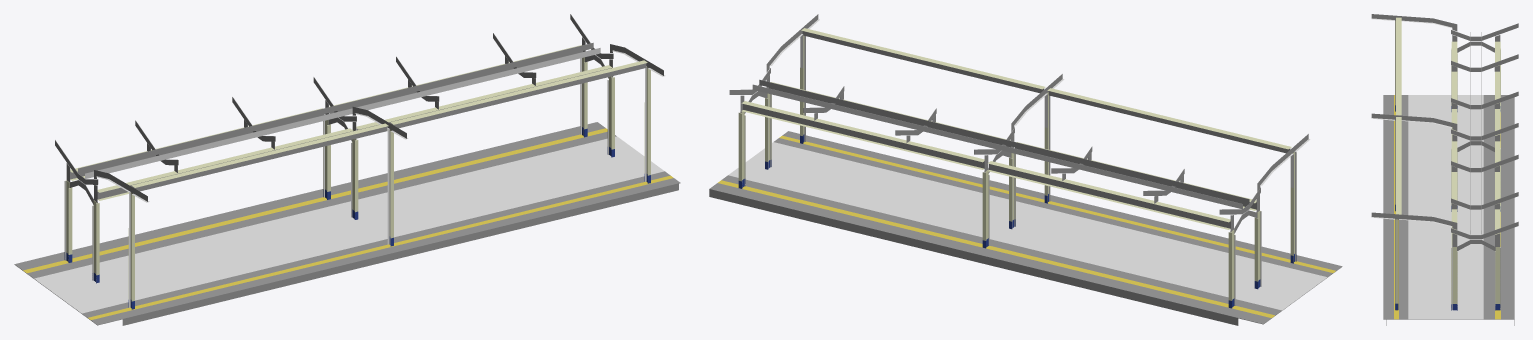
File: howtomake_JO13.glb
3 views of the same model, side by side, from view 1: azimuth 30°, elevation 25°; view 2: azimuth 150°, elevation 25°; view 3: azimuth 270°, elevation 25° (orthographic). The views are drawn at different scales.
Parts seen in each view (by area): view 1: 8, 4, 7, 2, 3, 5, 1; view 2: 8, 3, 4, 7, 2, 5, 1; view 3: 8, 1, 5, 2, 3, 7, 4.
Boxes of the visible parts, x1,y1,x2,y2 form: 8: [14, 122, 680, 325]; 4: [78, 42, 600, 178]; 7: [131, 60, 647, 191]; 2: [64, 37, 614, 283]; 3: [70, 45, 612, 200]; 5: [94, 44, 665, 309]; 1: [55, 14, 613, 184]; 8: [709, 131, 1342, 325]; 3: [741, 82, 1256, 229]; 4: [752, 79, 1249, 209]; 7: [801, 28, 1291, 153]; 2: [738, 75, 1261, 308]; 5: [766, 14, 1310, 263]; 1: [729, 68, 1260, 214]; 8: [1383, 95, 1514, 325]; 1: [1451, 23, 1518, 239]; 5: [1371, 14, 1457, 310]; 2: [1451, 35, 1500, 310]; 3: [1451, 41, 1500, 245]; 7: [1396, 17, 1401, 219]; 4: [1470, 32, 1481, 234].
Size of the model in its own units: 158 by 38.75 by 43.81.
